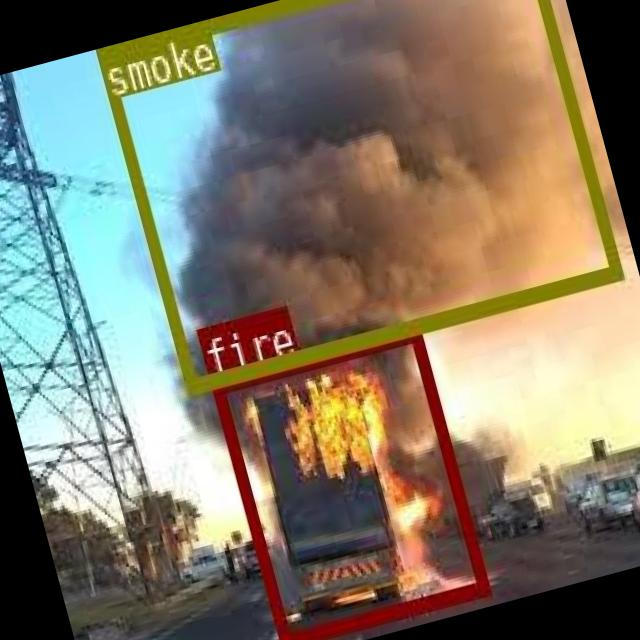fire: (208, 323, 486, 640)
smoke: (93, 0, 620, 393)
